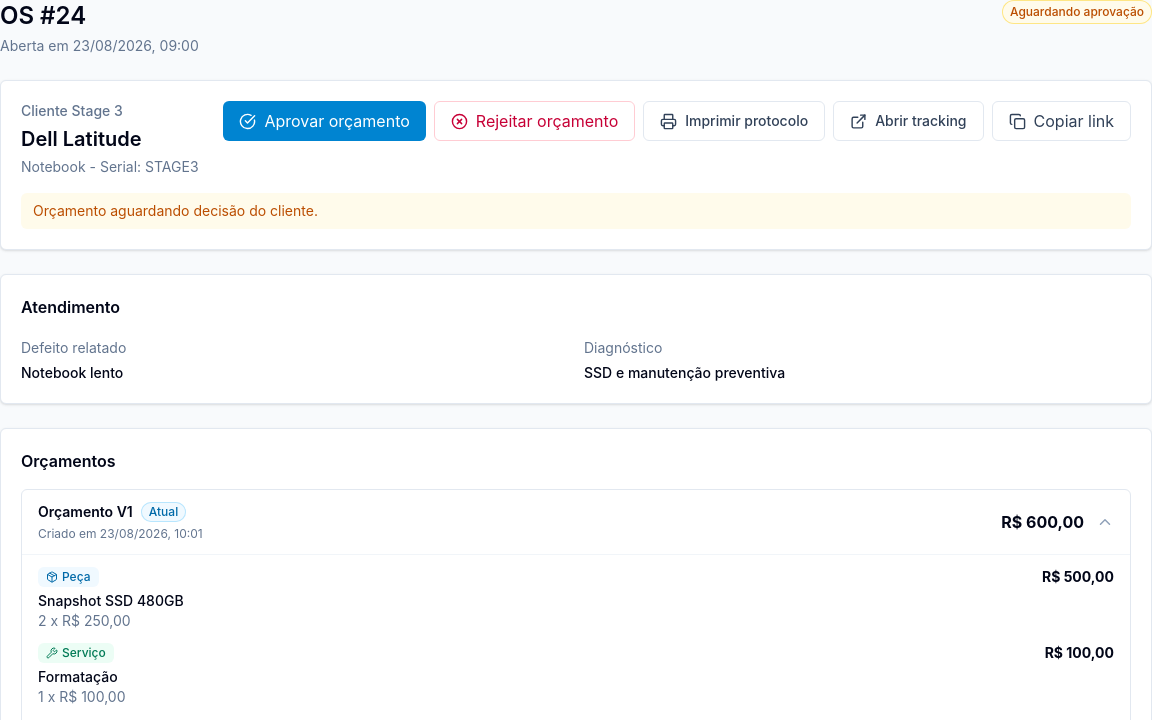
Test case: ServiceOrderDetailPage mixed budget flows › approves a mixed budget without assuming every item is a Part
The image size is (1152, 720).
Expected: the heading "OS #24" is shown, x1=0 y1=1 x2=86 y2=30
Click the button "Aprovar orçamento" at (325, 121), box x1=223 y1=101 x2=426 y2=141
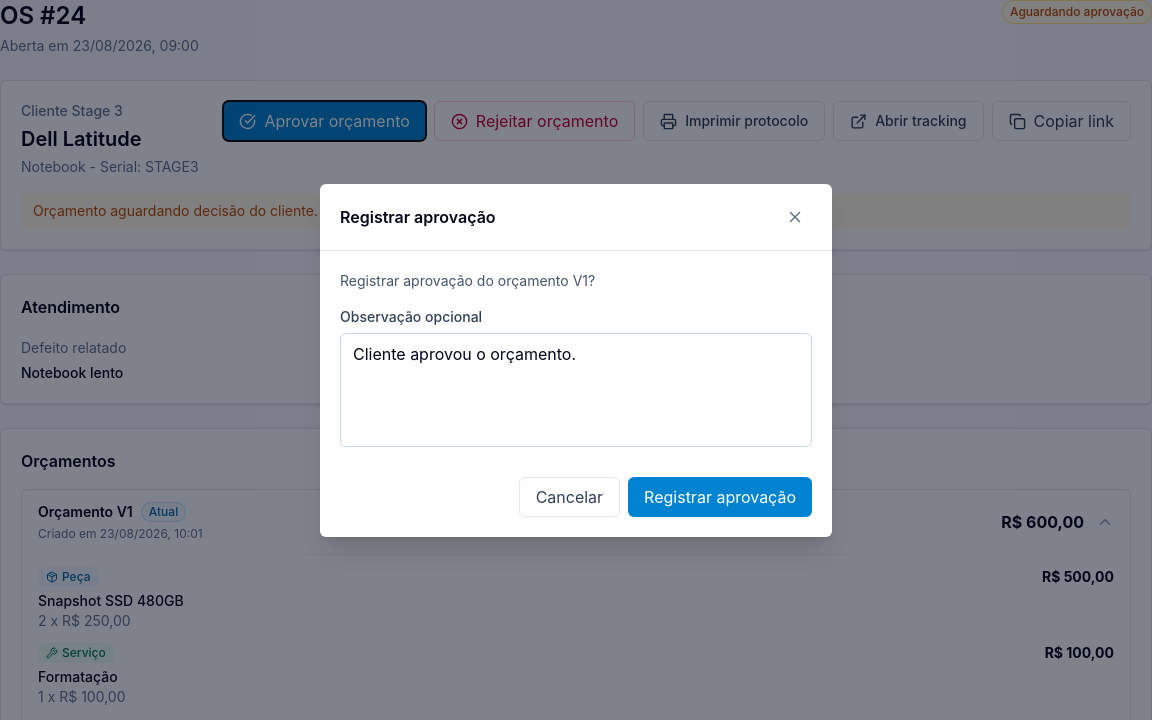
Click the button "Registrar aprovação" at (720, 496), box x1=628 y1=476 x2=812 y2=516
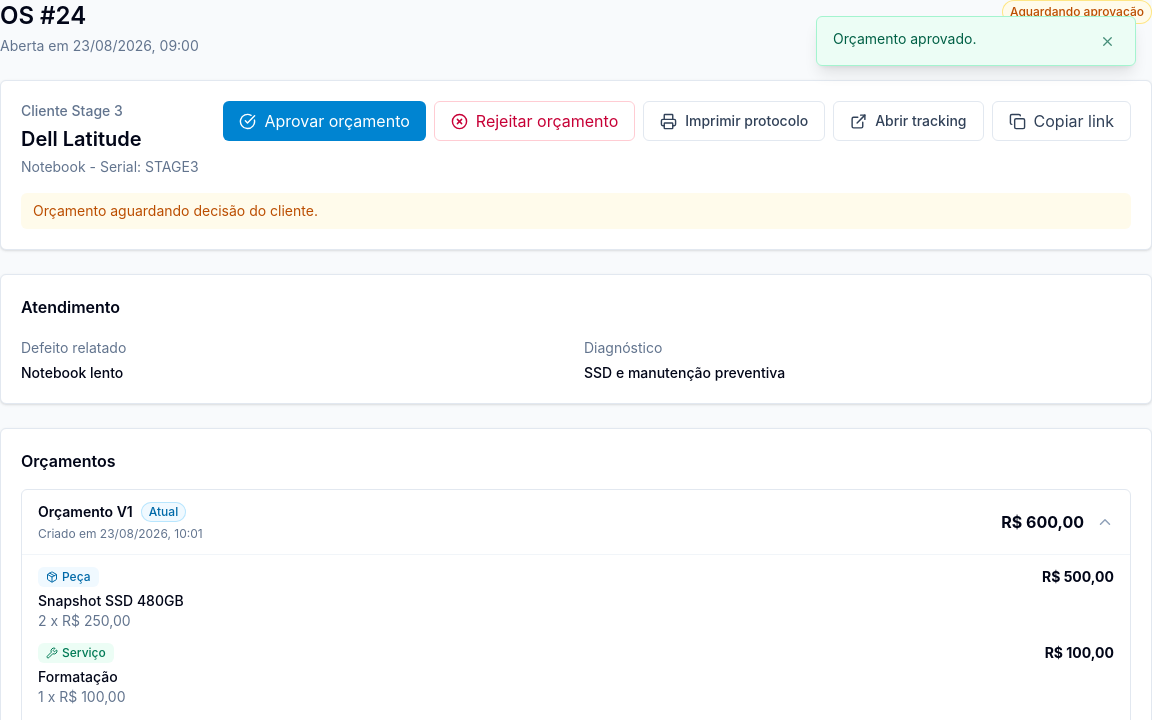
Result: the text "Orçamento aprovado." is shown at x1=833 y1=30 x2=976 y2=47
